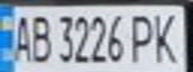2: (87, 11, 109, 64), (72, 11, 90, 64)
3: (51, 11, 75, 64)
6: (106, 10, 130, 64)
A: (6, 11, 36, 63)
B: (27, 10, 54, 64)
K: (148, 8, 184, 64)
P: (127, 10, 160, 64)
